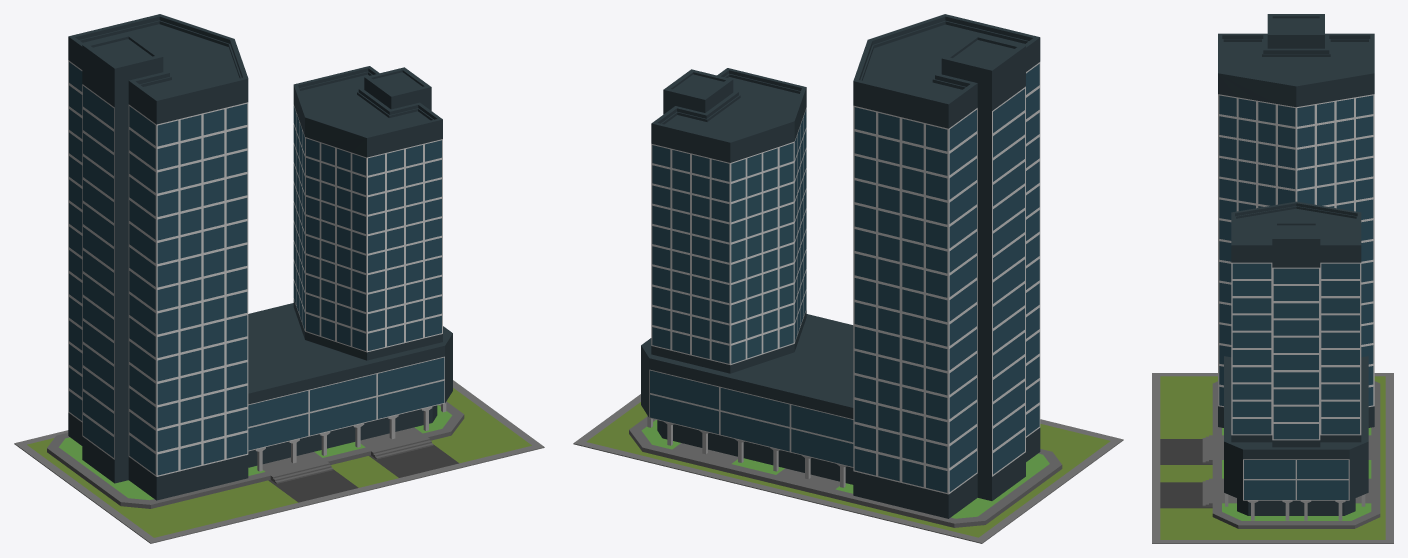
File: tower-c.glb
3 views of the same model, side by side, from view 1: azimuth 30°, elevation 25°; view 2: azimuth 150°, elevation 25°; view 3: azimuth 270°, elevation 25° (orthographic). The views are drawn at different scales.
Visible parts, largest first — view 1: skyscraper_c; view 2: skyscraper_c; view 3: skyscraper_c.
Boxes of the visible parts, x1,y1,x2,y2 form: skyscraper_c: (14, 14, 544, 543); skyscraper_c: (573, 14, 1123, 543); skyscraper_c: (1152, 14, 1393, 543).
Size of the model in its own units: 50 by 50.99 by 30.
1 material, 1 textured.
